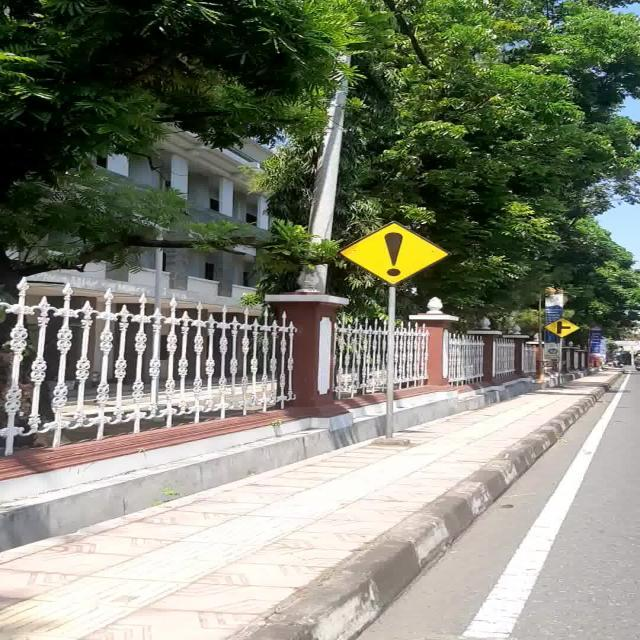Hati-Hati: (337, 221, 450, 286)
